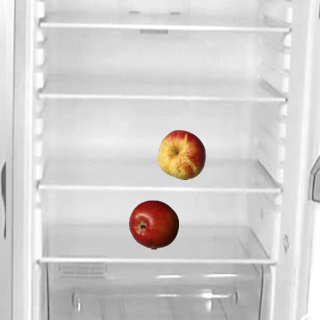Apple Braeburn: (128, 199, 178, 249)
Apple Red Yellow 1: (156, 129, 206, 179)
